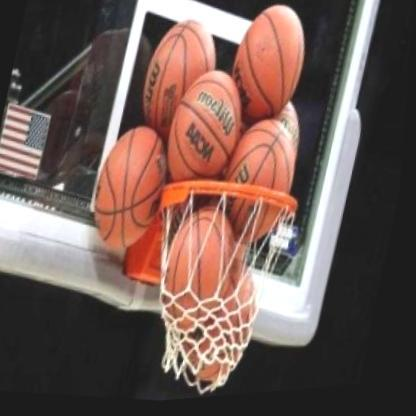basketball: (84, 120, 183, 262), (150, 205, 248, 345), (213, 118, 312, 250), (219, 1, 316, 135), (174, 265, 271, 397), (159, 67, 252, 198), (130, 13, 225, 141)
